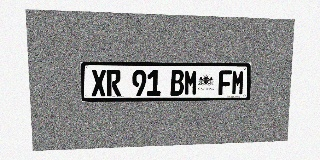1: (147, 70, 161, 96)
9: (132, 70, 146, 96)
B: (170, 70, 184, 96)
F: (218, 70, 232, 95)
M: (184, 70, 198, 95), (231, 70, 245, 95)
R: (106, 70, 121, 96)
X: (91, 69, 106, 96)
